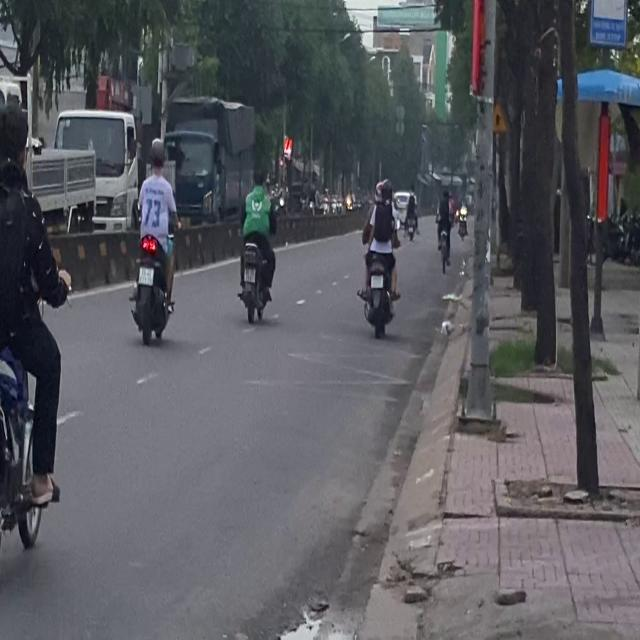helmet: (148, 138, 165, 173)
licenseplate: (130, 138, 178, 343)
nohelmet: (138, 266, 153, 284)
